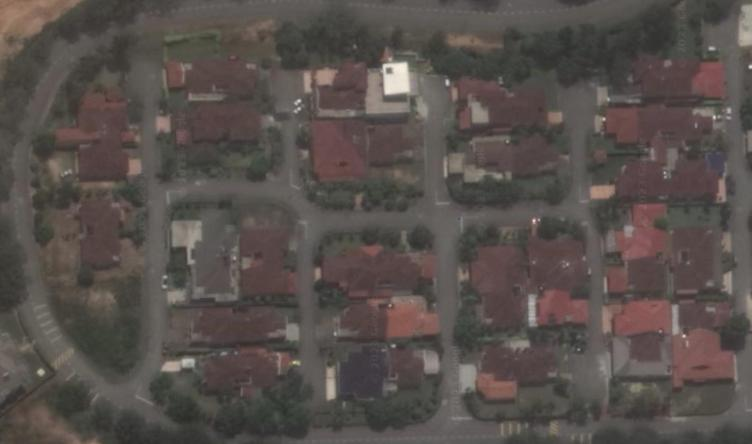building: (592, 99, 718, 166), (448, 69, 568, 137), (163, 204, 241, 306), (49, 83, 146, 150), (464, 240, 532, 334), (442, 138, 567, 186), (469, 342, 561, 405), (616, 53, 731, 101), (64, 195, 129, 274), (161, 51, 263, 100), (670, 326, 741, 396), (239, 220, 298, 301), (306, 115, 372, 186), (597, 199, 673, 260), (167, 102, 266, 147), (322, 339, 391, 403), (588, 153, 668, 204), (668, 222, 722, 295), (308, 57, 372, 117), (605, 327, 673, 383), (374, 240, 442, 294), (368, 58, 429, 117), (526, 233, 595, 284), (317, 240, 377, 298), (666, 146, 730, 200), (239, 344, 297, 398), (599, 296, 673, 337), (388, 340, 444, 394), (529, 285, 595, 329), (70, 147, 148, 184), (386, 291, 445, 339), (599, 258, 669, 298), (329, 299, 389, 341), (370, 120, 422, 168), (235, 302, 293, 345), (670, 296, 736, 333), (187, 302, 236, 348), (198, 346, 241, 398)
